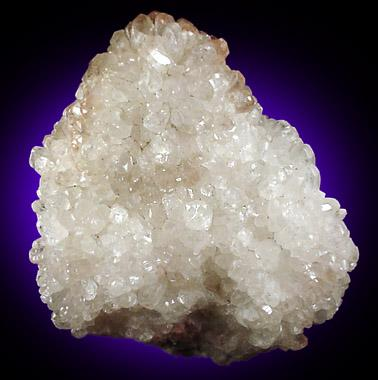calcite: (30, 12, 360, 365)
